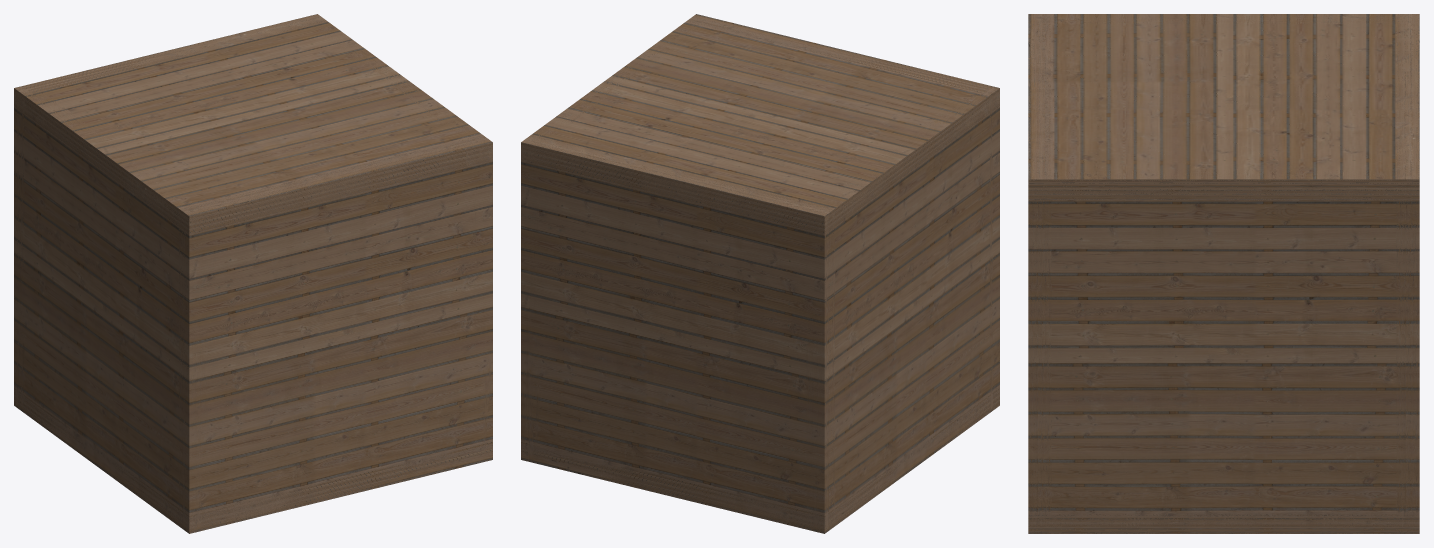
File: crate.gltf
3 renders of one model, left to right at view 1: azimuth 30°, elevation 25°; view 2: azimuth 150°, elevation 25°; view 3: azimuth 270°, elevation 25°, orthographic. The views are drawn at different scales.
Parts seen in each view (by area): view 1: FRAC_panel_south, FRAC_panel_top, FRAC_panel_west, FRAC_panel_bottom, FRAC_panel_north, FRAC_panel_east; view 2: FRAC_panel_north, FRAC_panel_top, FRAC_panel_west, FRAC_panel_bottom, FRAC_panel_east, FRAC_panel_south; view 3: FRAC_panel_east, FRAC_panel_top, FRAC_panel_south, FRAC_panel_north, FRAC_panel_bottom, FRAC_panel_west.
Part boxes in pixels (x1,y1,x2,y2): FRAC_panel_south: (179, 135, 492, 533); FRAC_panel_top: (14, 14, 492, 234); FRAC_panel_west: (14, 83, 207, 532); FRAC_panel_bottom: (14, 387, 492, 533); FRAC_panel_north: (14, 14, 327, 412); FRAC_panel_east: (302, 16, 492, 461); FRAC_panel_north: (521, 135, 834, 533); FRAC_panel_top: (521, 14, 999, 235); FRAC_panel_west: (806, 83, 999, 533); FRAC_panel_bottom: (521, 387, 999, 533); FRAC_panel_east: (521, 16, 711, 462); FRAC_panel_south: (686, 14, 999, 412); FRAC_panel_east: (1028, 169, 1419, 533); FRAC_panel_top: (1028, 14, 1419, 200); FRAC_panel_south: (1028, 14, 1051, 533); FRAC_panel_north: (1396, 14, 1419, 533); FRAC_panel_bottom: (1028, 513, 1419, 533); FRAC_panel_west: (1028, 14, 1419, 23).
Size of the model in its own units: 1 by 1 by 1.
1 material, 1 textured.
